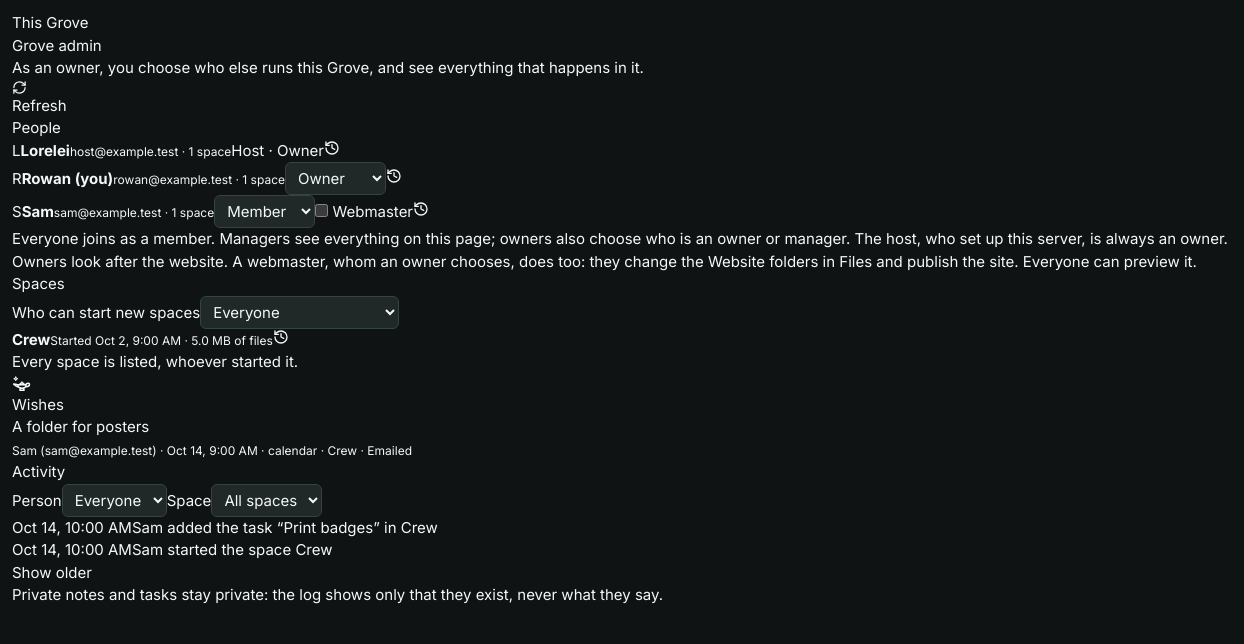
it: lets an owner appoint managers, but never change the host
The width and height of the screenshot is (1244, 644).
Expected: the text "Host · Owner" is shown, [231, 140, 324, 160]
Select "Manager" in the dropdown named "Grove role for Sam". click: coordinates (265, 212)
box: [214, 195, 315, 228]
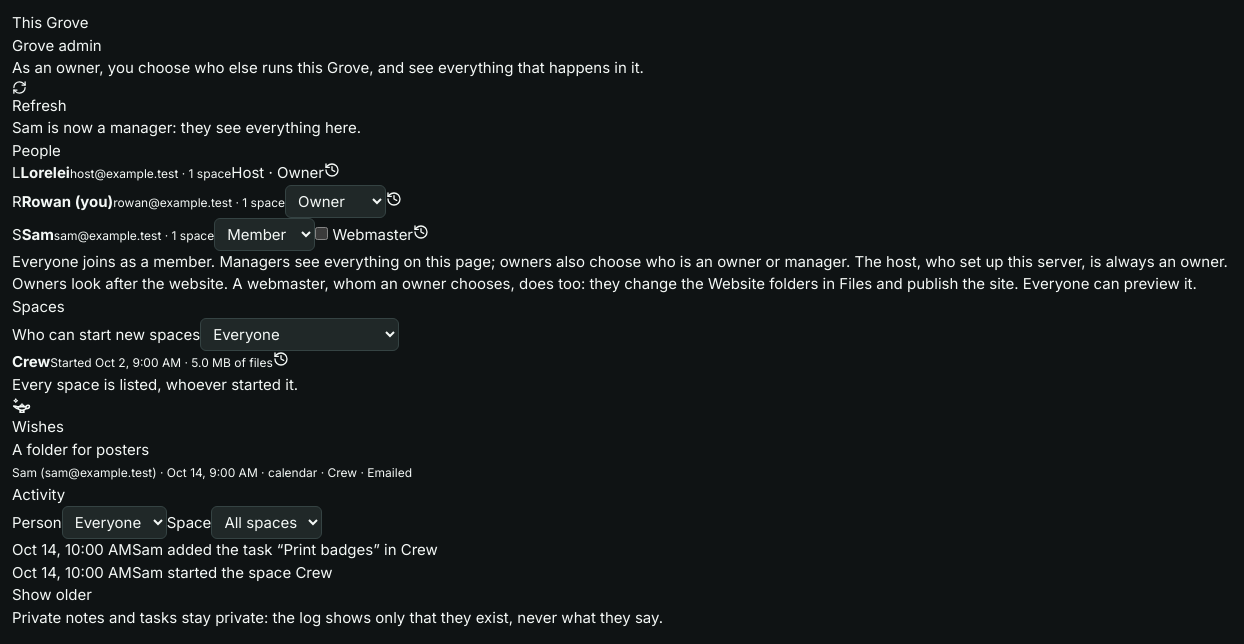
Now the text "Sam is now a manager: they see everything here." is shown, box [12, 118, 361, 137]
